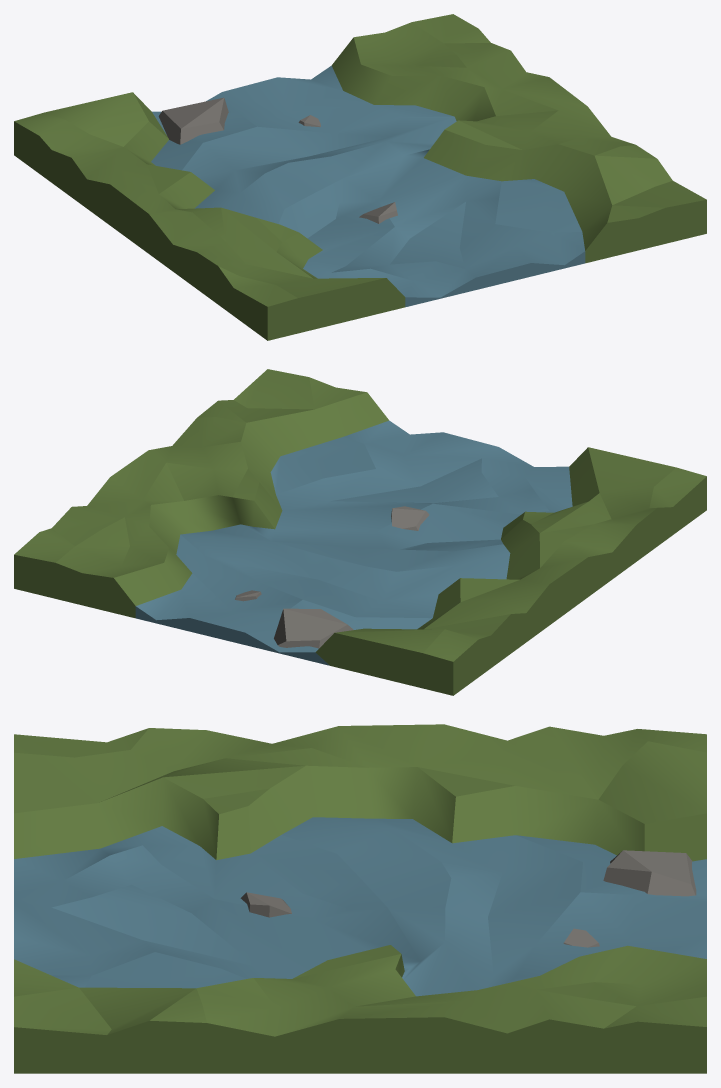
Rendered from Water_River_V.glb.
The picture shows the model from 3 angles, top to bottom: view 1: azimuth 30°, elevation 25°; view 2: azimuth 150°, elevation 25°; view 3: azimuth 270°, elevation 25°; orthographic projection. The views are drawn at different scales.
Visible parts, largest first — view 1: Water_River_V; view 2: Water_River_V; view 3: Water_River_V.
Part boxes in pixels (bbox=[...]): Water_River_V: bbox=[14, 14, 706, 340]; Water_River_V: bbox=[14, 369, 706, 695]; Water_River_V: bbox=[14, 724, 706, 1073].
Bounding box in the file's own units: 1.47 × 0.1393 × 1.47.
